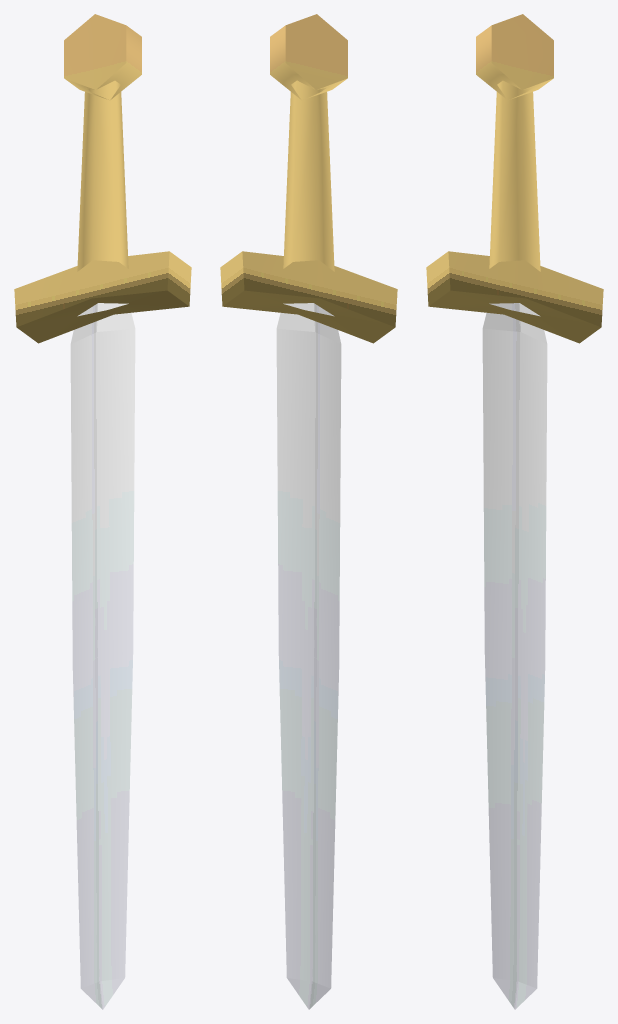
File: ps2_save-icons_kingarthur.glb
3 views of the same model, side by side, from view 1: azimuth 30°, elevation 25°; view 2: azimuth 150°, elevation 25°; view 3: azimuth 330°, elevation 25° (orthographic).
Visible parts, largest first — view 1: list.icn; view 2: list.icn; view 3: list.icn.
Part boxes in pixels (x1,y1,x2,y2): list.icn: (14,14,191,1009); list.icn: (220,14,397,1009); list.icn: (426,14,603,1009).
Size of the model in its own units: 0.8174 by 4.98 by 0.2009.
Materials: 1 (1 with a texture image).
